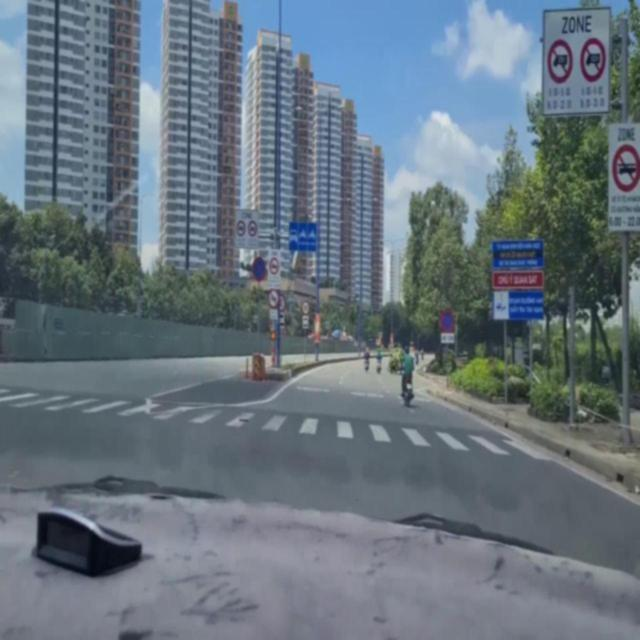Biển phụ: (439, 332, 454, 344), (268, 307, 279, 320), (302, 311, 309, 330)
Cấm các phương tiện hoạt động trong khung giờ cố định: (540, 8, 606, 113), (605, 125, 632, 235), (263, 241, 286, 289), (233, 207, 258, 249)
Cấm dừng - Cấm đỗ: (435, 299, 456, 330), (251, 254, 267, 285)
Cấm xe máy: (266, 288, 278, 306)
Giới hạn tốc độ: 80Km/h: (300, 297, 310, 314)
Khác: (490, 235, 548, 319)
Làn đường cho từng xe: (288, 217, 317, 252)
